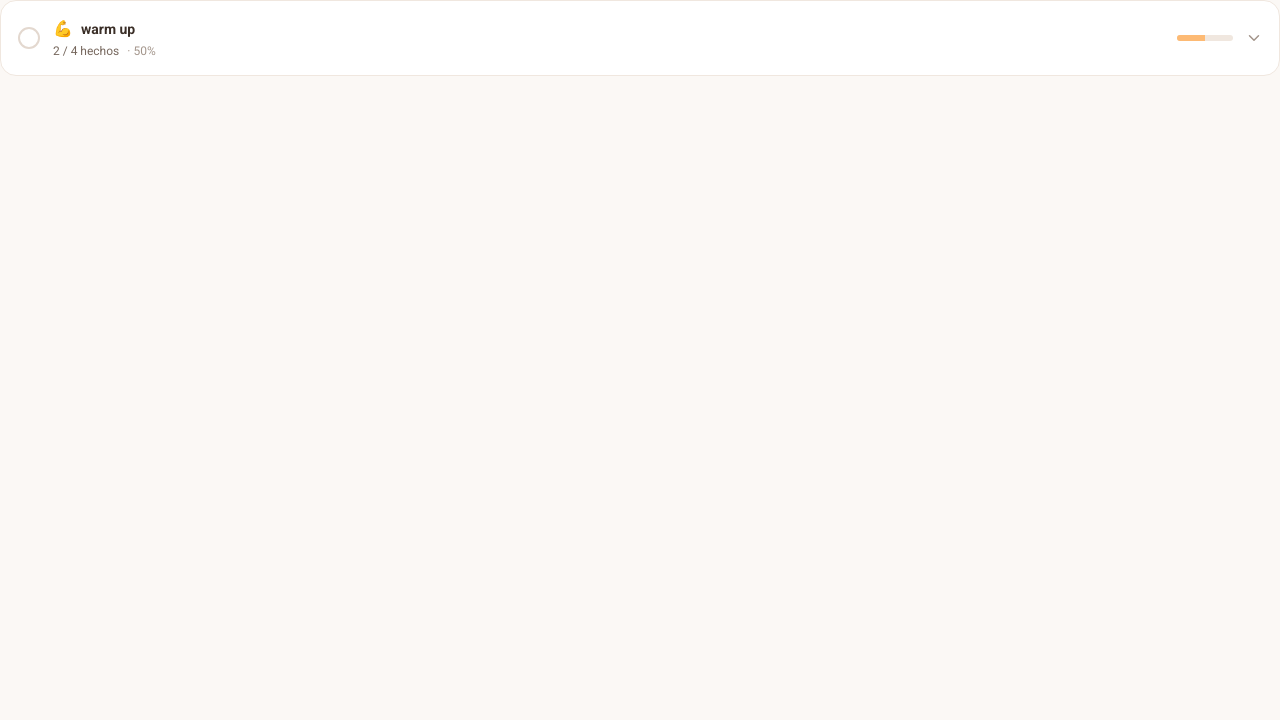
Scenario: lo resuelto en una línea › tocar el resumen abre filas densas; tocar una fila abre la tarjeta
Later steps or results of the test are not shown.
Click the text "warm up".
click(108, 29)  # box [81,19,135,39]
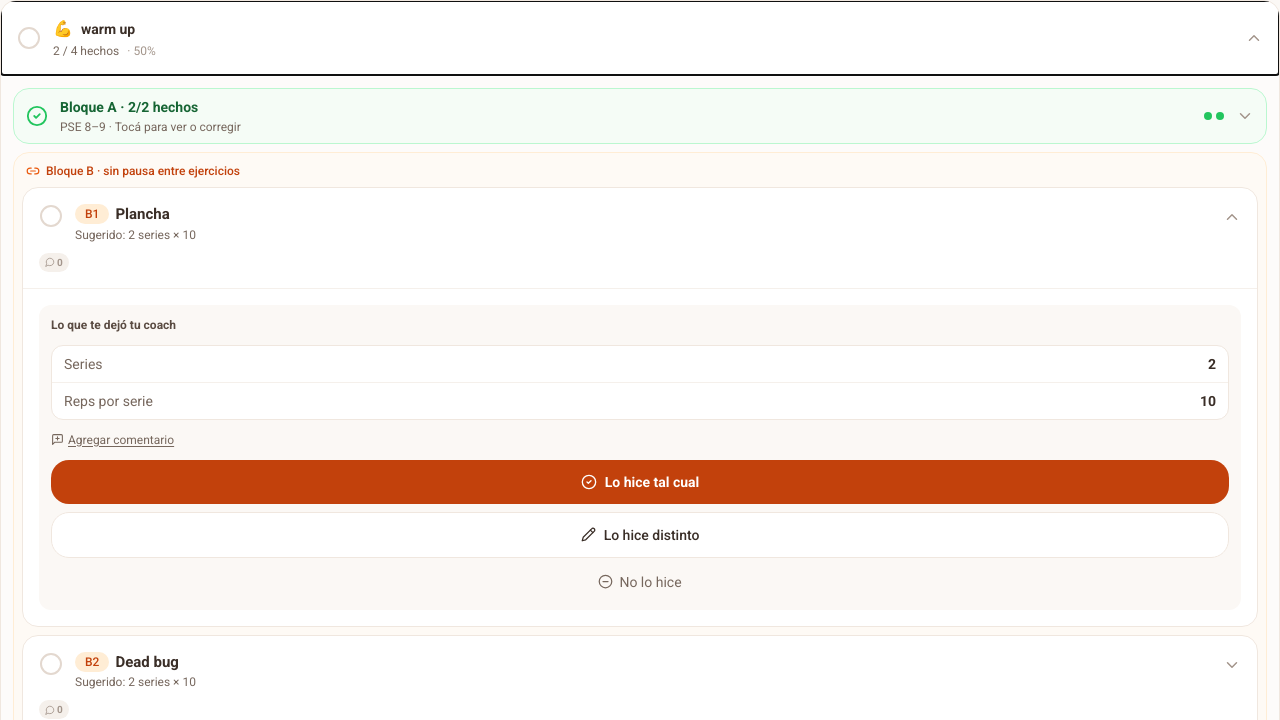
Click the text "Bloque A · 2/2 hechos".
click(129, 107)  # box [60,99,198,115]
(page scrolled)
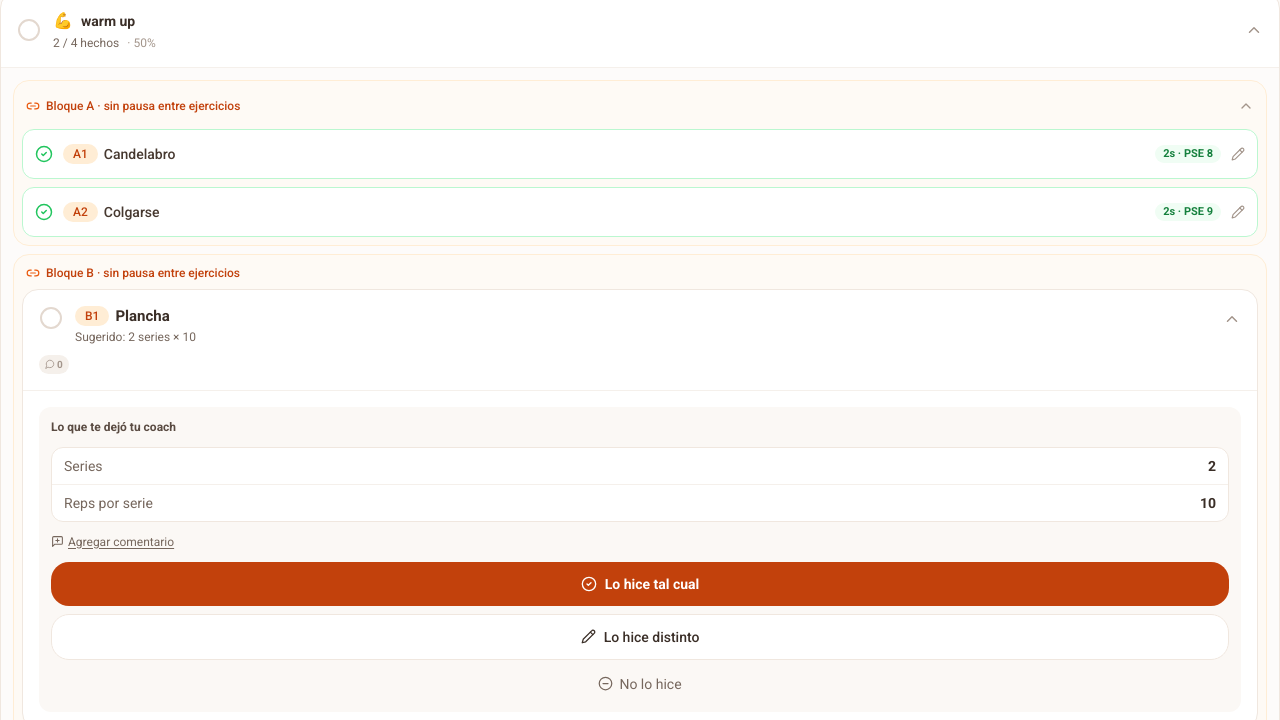
Now the text "2s · PSE 9" is shown, box [1155,203,1221,221]
